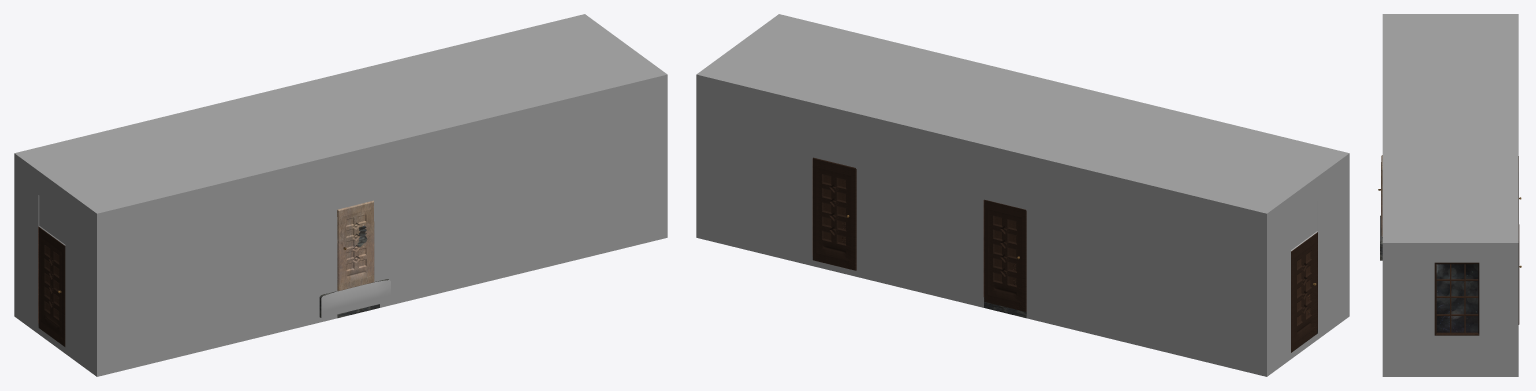
File: side_hallway.fbx
3 renders of one model, left to right at view 1: azimuth 30°, elevation 25°; view 2: azimuth 150°, elevation 25°; view 3: azimuth 270°, elevation 25°, orthographic. The views are drawn at different scales.
Visible parts, largest first — view 1: wall, ceiling, floor, dining_room:pCube68, pCube35, office1:stony_stairs; view 2: wall, ceiling, pCube35 (×2), floor, office1:pCube35; view 3: ceiling, wall, office1:pPlane1, floor, office1:pCube10, pCube35, dining_room:pCube68, office1:pCube15, office1:pCube14.
Part boxes in pixels (x1,y1,x2,y2): wall: [14, 81, 667, 366]; ceiling: [14, 14, 667, 219]; floor: [14, 225, 667, 376]; dining_room:pCube68: [337, 200, 374, 291]; pCube35: [39, 227, 65, 346]; office1:stony_stairs: [319, 279, 390, 318]; wall: [696, 80, 1349, 366]; ceiling: [696, 14, 1349, 219]; pCube35 (×2): [813, 157, 1317, 352]; floor: [696, 227, 1349, 376]; office1:pCube35: [984, 199, 1026, 311]; ceiling: [1382, 14, 1518, 247]; wall: [1382, 247, 1518, 368]; office1:pPlane1: [1436, 264, 1478, 332]; floor: [1382, 368, 1518, 376]; office1:pCube10: [1434, 262, 1479, 335]; pCube35: [1518, 224, 1521, 324]; dining_room:pCube68: [1378, 155, 1382, 236]; office1:pCube15: [1464, 264, 1465, 332]; office1:pCube14: [1450, 264, 1451, 332].
Bounding box in the file's own units: 96.66 × 26.3 × 25.47.
